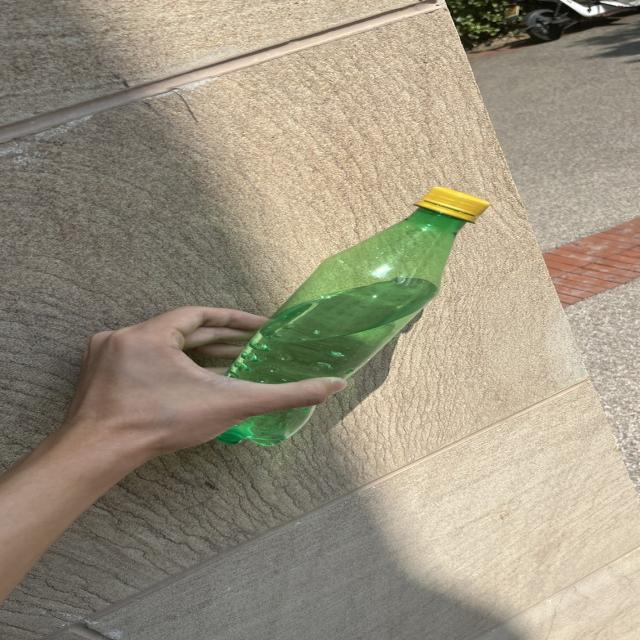medium: (216, 187, 488, 446)
